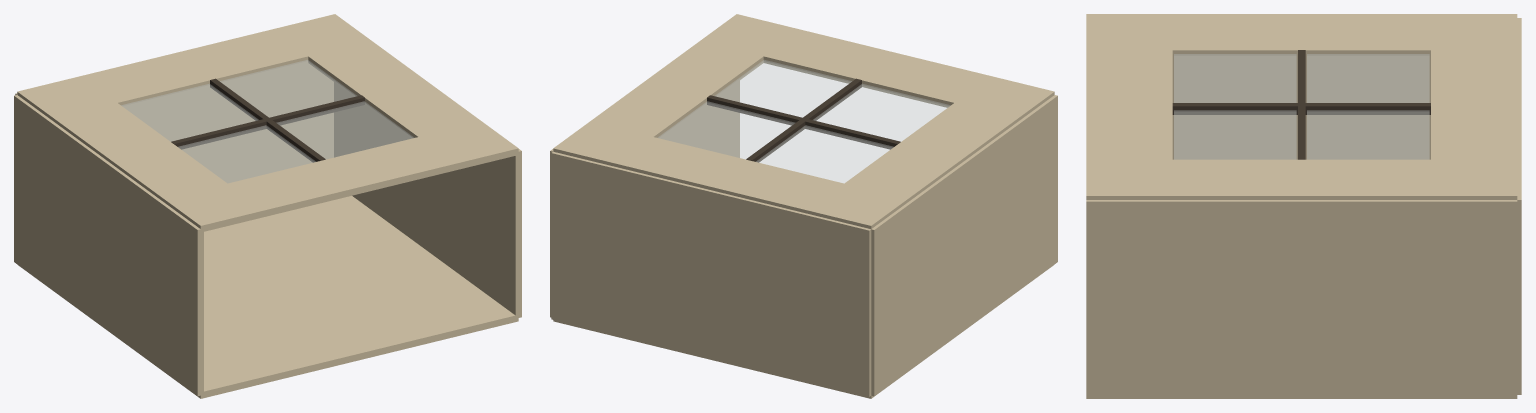
The model's file is room1.glb.
The picture shows the model from 3 angles, left to right: view 1: azimuth 30°, elevation 25°; view 2: azimuth 150°, elevation 25°; view 3: azimuth 270°, elevation 25°; orthographic projection. The views are drawn at different scales.
Visible parts, largest first — view 1: Floor, LeftWall, RightWall, BackWall, CeilingRight, CeilingLeft, CeilingFront, CeilingBack, GlassBL, GlassBR, GlassTL, GlassTR (+2 smaller); view 2: BackWall, LeftWall, CeilingRight, CeilingLeft, CeilingFront, CeilingBack, GlassTL, GlassTR, GlassBL, GlassBR, RightWall, SkylightBeamHorizontal (+2 smaller); view 3: RightWall, LeftWall, CeilingLeft, CeilingRight, CeilingBack, CeilingFront, GlassBR, GlassTR, GlassBL, GlassTL, SkylightBeamVertical, BackWall (+2 smaller).
Part boxes in pixels (bbox=[...]): Floor: bbox=[18, 196, 518, 398]; LeftWall: bbox=[14, 95, 203, 396]; RightWall: bbox=[334, 82, 521, 318]; BackWall: bbox=[15, 63, 333, 183]; CeilingRight: bbox=[272, 14, 518, 170]; CeilingLeft: bbox=[17, 76, 264, 232]; CeilingFront: bbox=[228, 137, 455, 216]; CeilingBack: bbox=[81, 29, 308, 107]; GlassBL: bbox=[178, 125, 315, 183]; GlassBR: bbox=[277, 101, 413, 159]; GlassTL: bbox=[121, 84, 258, 141]; GlassTR: bbox=[220, 60, 356, 117]; BackWall: bbox=[551, 151, 871, 396]; LeftWall: bbox=[871, 95, 1057, 396]; CeilingRight: bbox=[553, 14, 799, 166]; CeilingLeft: bbox=[807, 76, 1054, 228]; CeilingFront: bbox=[763, 29, 990, 107]; CeilingBack: bbox=[616, 137, 843, 213]; GlassTL: bbox=[756, 125, 893, 183]; GlassTR: bbox=[658, 101, 794, 159]; GlassBL: bbox=[813, 84, 950, 141]; GlassBR: bbox=[715, 60, 851, 117]; RightWall: bbox=[550, 81, 739, 317]; SkylightBeamHorizontal: bbox=[707, 95, 900, 149]; RightWall: bbox=[1086, 200, 1517, 396]; LeftWall: bbox=[1172, 58, 1430, 159]; CeilingLeft: bbox=[1086, 14, 1517, 58]; CeilingRight: bbox=[1086, 159, 1517, 199]; CeilingBack: bbox=[1431, 50, 1517, 159]; CeilingFront: bbox=[1086, 50, 1172, 159]; GlassBR: bbox=[1174, 110, 1296, 159]; GlassTR: bbox=[1307, 110, 1429, 159]; GlassBL: bbox=[1174, 54, 1296, 102]; GlassTL: bbox=[1307, 54, 1429, 102]; SkylightBeamVertical: bbox=[1172, 103, 1430, 114]; BackWall: bbox=[1517, 18, 1521, 394].
Size of the model in its own units: 10.2 by 5.21 by 10.1.
